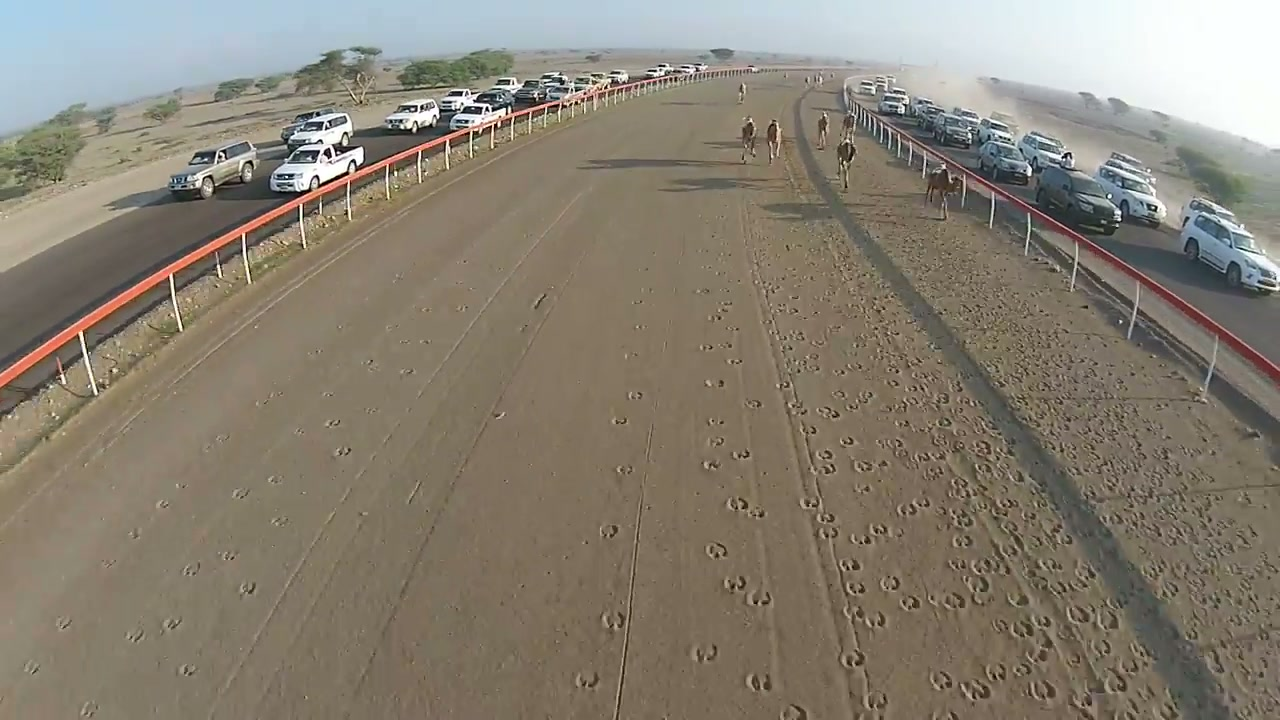animal_footprint: (1108, 698, 1167, 719), (1027, 576, 1072, 596), (1024, 635, 1053, 664), (1050, 579, 1095, 596), (1068, 690, 1097, 716), (1027, 679, 1058, 703), (970, 556, 1009, 575), (960, 679, 992, 701), (1102, 590, 1135, 610), (1102, 669, 1128, 694), (896, 503, 931, 521), (1094, 608, 1120, 631), (773, 304, 800, 326), (936, 592, 968, 610), (1128, 641, 1154, 663), (934, 434, 964, 453), (1205, 650, 1227, 675), (1066, 604, 1093, 624), (851, 459, 889, 473), (1152, 701, 1181, 719), (948, 510, 974, 530), (691, 643, 717, 663), (745, 673, 772, 692), (202, 433, 229, 452), (964, 575, 991, 594), (839, 649, 864, 669), (863, 691, 888, 711), (929, 670, 954, 690), (745, 589, 772, 607), (984, 662, 1006, 683), (601, 611, 624, 631), (1089, 638, 1113, 657), (862, 611, 887, 629), (992, 497, 1018, 514), (876, 437, 907, 451), (1037, 557, 1064, 573), (574, 671, 598, 689), (779, 704, 807, 719), (1074, 562, 1096, 581), (841, 398, 870, 412), (255, 391, 282, 406), (971, 439, 993, 457), (793, 360, 821, 374), (842, 605, 866, 621), (996, 542, 1021, 557), (705, 542, 727, 559), (880, 575, 901, 592), (844, 580, 866, 596), (1012, 661, 1032, 678), (816, 406, 840, 420), (838, 558, 862, 572), (816, 525, 838, 540), (910, 496, 932, 511), (896, 503, 919, 517), (952, 533, 973, 548), (786, 401, 807, 416), (726, 497, 748, 511), (80, 701, 98, 718), (162, 616, 182, 631), (815, 462, 838, 475), (969, 594, 992, 607), (947, 557, 968, 571), (910, 452, 934, 464), (868, 523, 890, 536), (852, 459, 874, 472), (125, 628, 144, 643), (929, 710, 959, 719), (599, 524, 618, 538), (816, 511, 836, 524), (856, 390, 876, 403), (55, 616, 72, 631), (23, 660, 40, 675), (850, 534, 873, 545), (332, 446, 353, 458), (238, 582, 256, 596), (800, 423, 818, 437), (801, 496, 820, 509), (177, 663, 196, 676), (183, 562, 200, 576), (935, 417, 954, 429), (731, 448, 750, 460), (746, 507, 766, 518), (853, 483, 872, 494), (703, 458, 719, 471), (271, 516, 288, 528), (704, 378, 724, 388), (219, 550, 237, 561), (839, 436, 857, 447), (824, 325, 842, 336), (615, 464, 633, 475), (232, 488, 249, 499), (780, 343, 794, 356), (707, 436, 725, 446), (718, 300, 733, 312), (100, 558, 116, 569), (266, 474, 283, 484), (398, 367, 415, 377), (706, 417, 724, 426), (744, 399, 761, 408), (830, 390, 847, 399), (623, 350, 640, 359), (325, 418, 340, 428), (884, 378, 900, 387), (155, 499, 169, 509), (612, 416, 627, 425), (776, 380, 791, 389), (718, 341, 734, 349), (699, 343, 715, 351), (384, 323, 398, 332), (707, 313, 721, 321), (628, 391, 642, 399), (726, 357, 741, 364), (695, 287, 710, 294), (455, 304, 468, 312), (321, 390, 334, 397), (641, 286, 653, 293), (174, 482, 186, 489), (632, 298, 642, 304), (715, 270, 725, 276), (423, 340, 428, 343)
